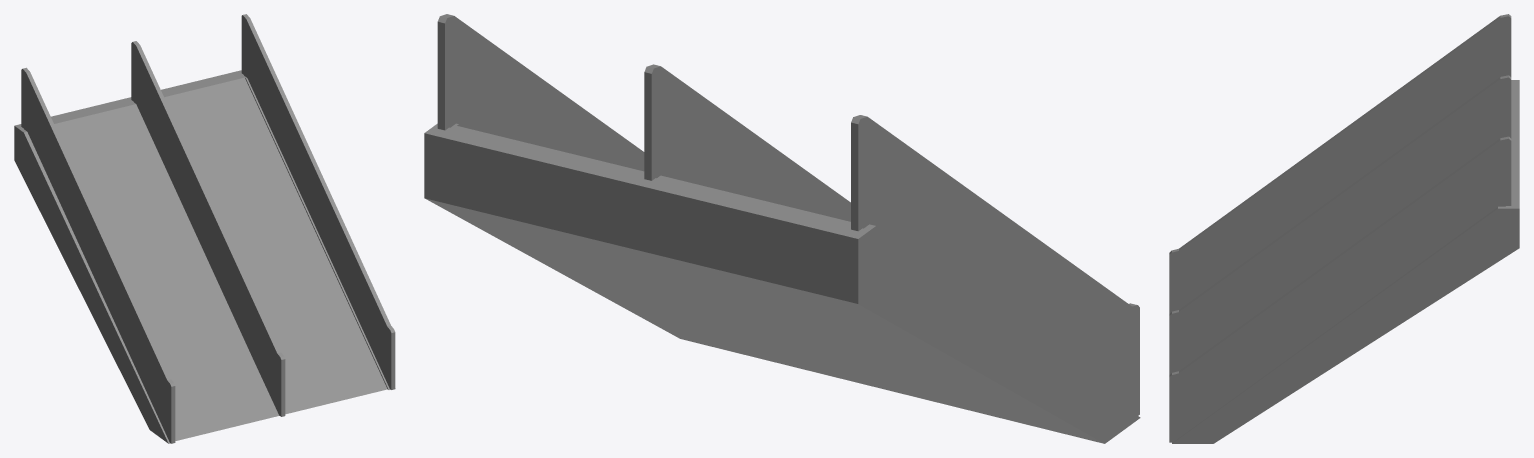
File: SW_ENV_StationStair_Long_Platform_FF_Collision.fbx
The picture shows the model from 3 angles, left to right: view 1: azimuth 30°, elevation 25°; view 2: azimuth 150°, elevation 25°; view 3: azimuth 270°, elevation 25°; orthographic projection. The views are drawn at different scales.
Parts seen in each view (by area): view 1: SW_ENV_StationStair_Long_Platform_FF_Collision; view 2: SW_ENV_StationStair_Long_Platform_FF_Collision; view 3: SW_ENV_StationStair_Long_Platform_FF_Collision.
Boxes of the visible parts, x1,y1,x2,y2 form: SW_ENV_StationStair_Long_Platform_FF_Collision: [14, 14, 395, 443]; SW_ENV_StationStair_Long_Platform_FF_Collision: [424, 14, 1140, 443]; SW_ENV_StationStair_Long_Platform_FF_Collision: [1169, 14, 1519, 443].
Bounding box in the file's own units: 4.2 × 4.64 × 4.84.
